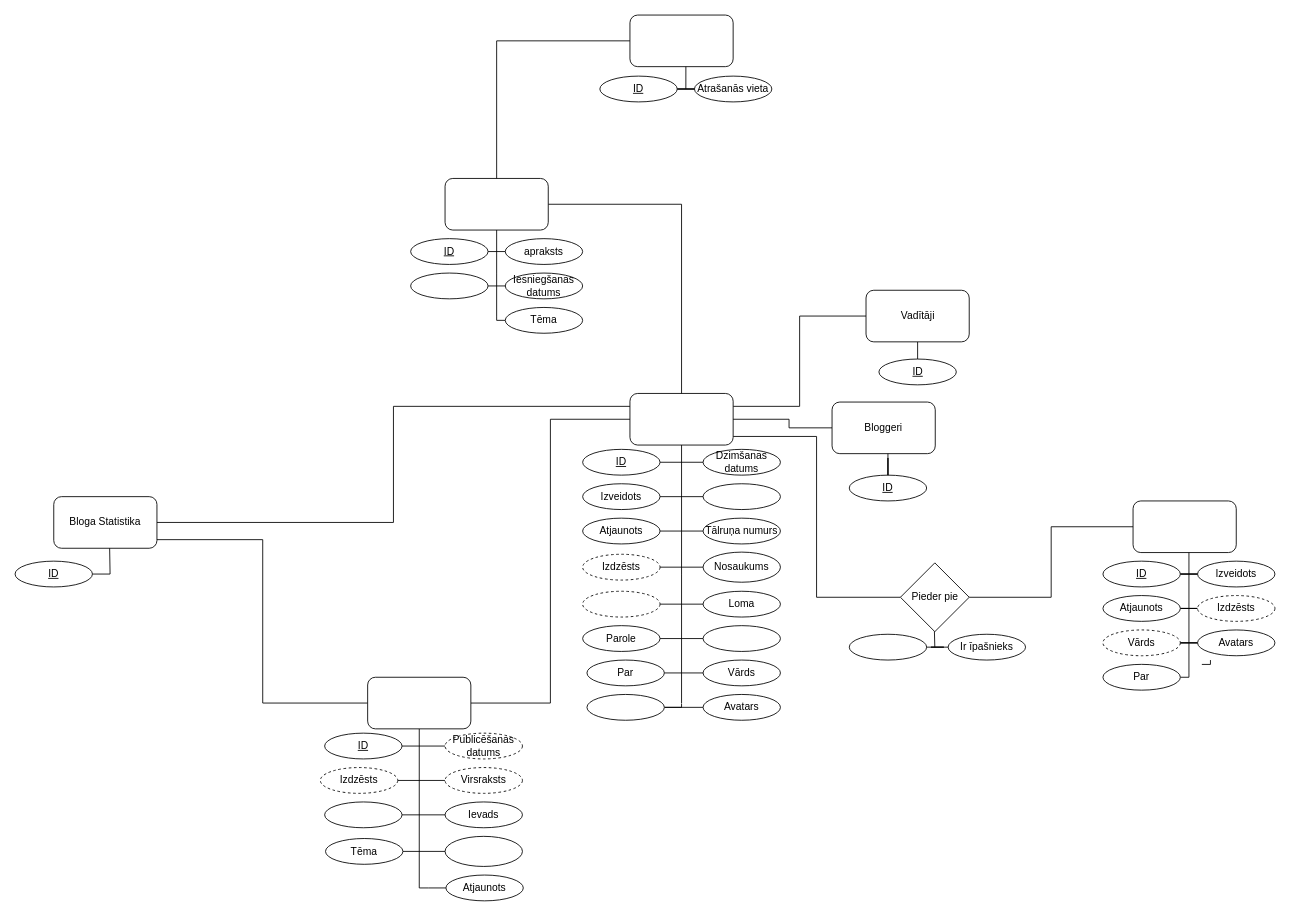
This 1290x916 diagram has some shape labels left out. The shapes that lost their labels are listed below. From the top down, each one's centre as x and y in pixels, then its label:
At [681,40]: "izsekotie faili".
At [496,204]: "izsekotie iesniegumi".
At [449,285]: "Apstiprināts".
At [681,419]: "Lietotājs".
At [741,496]: "Vārda dienas datums".
At [1184,526]: "Projekti".
At [621,603]: "E-pasts".
At [741,638]: "Uzvārds".
At [887,646]: "Ir Admin".
At [419,702]: "Raksts".
At [625,707]: "Fona attēls".
At [363,814]: "Bilde".
At [483,850]: "Saturs".
